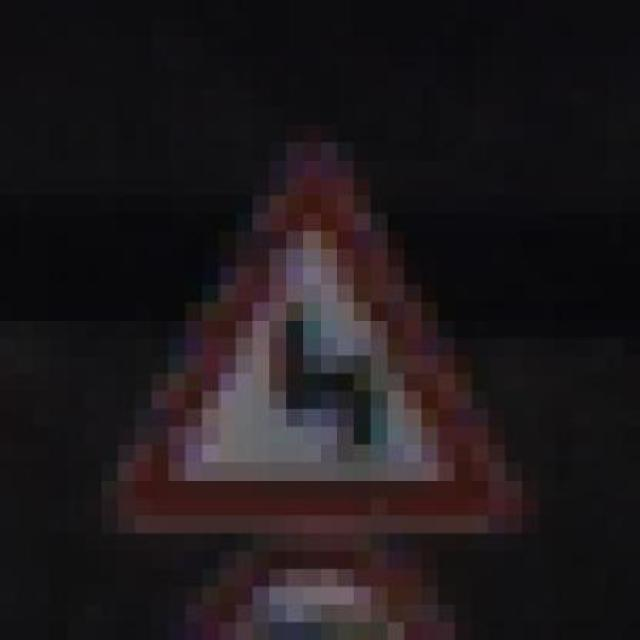Left Zig Zag Traffic: (84, 142, 539, 533)
